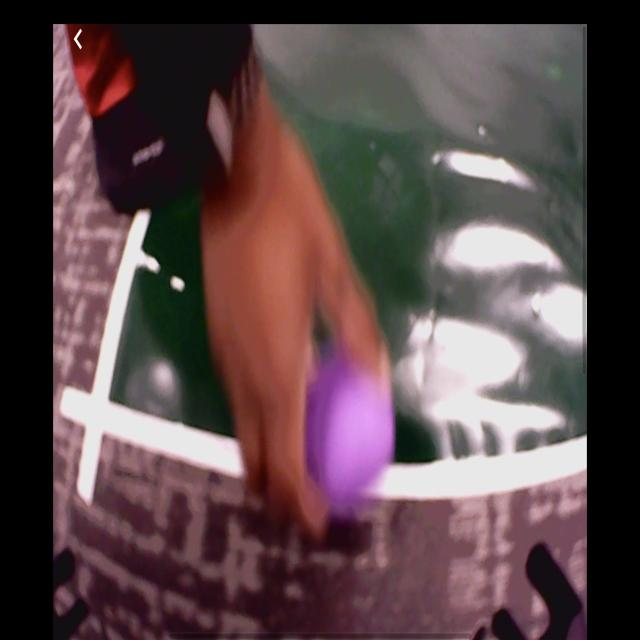ball: (306, 357, 394, 507)
